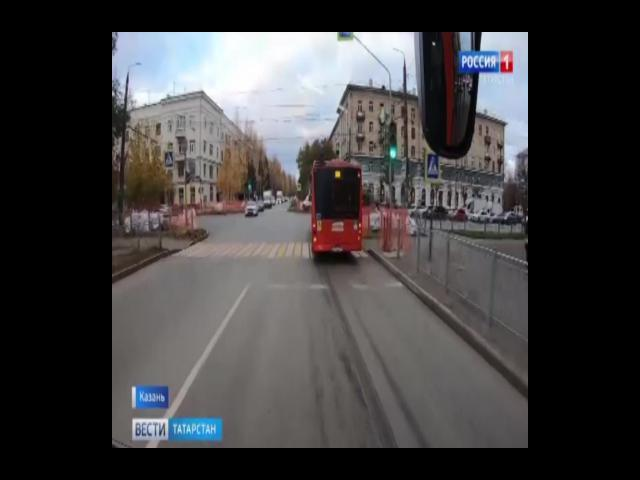bus: (311, 158, 365, 262)
car: (418, 206, 446, 221), (471, 206, 494, 223), (498, 210, 519, 228), (448, 206, 469, 223), (244, 198, 259, 218), (263, 194, 274, 210), (257, 198, 267, 210)
